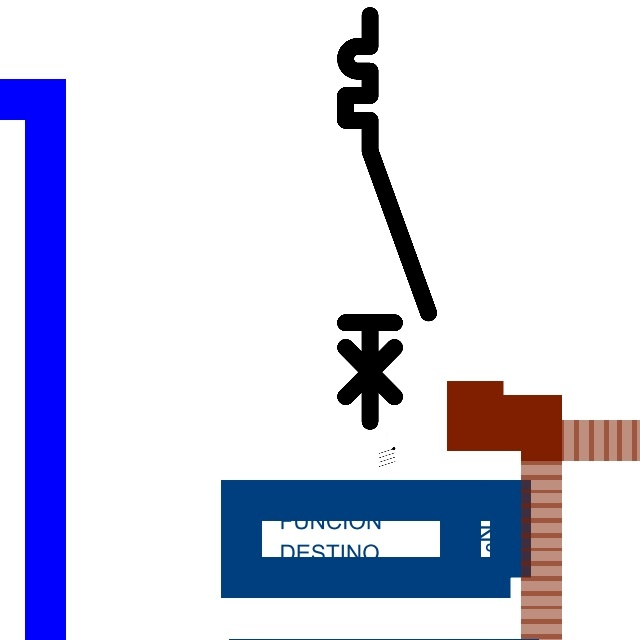interruptor_termomagnetico: (335, 5, 439, 432)
